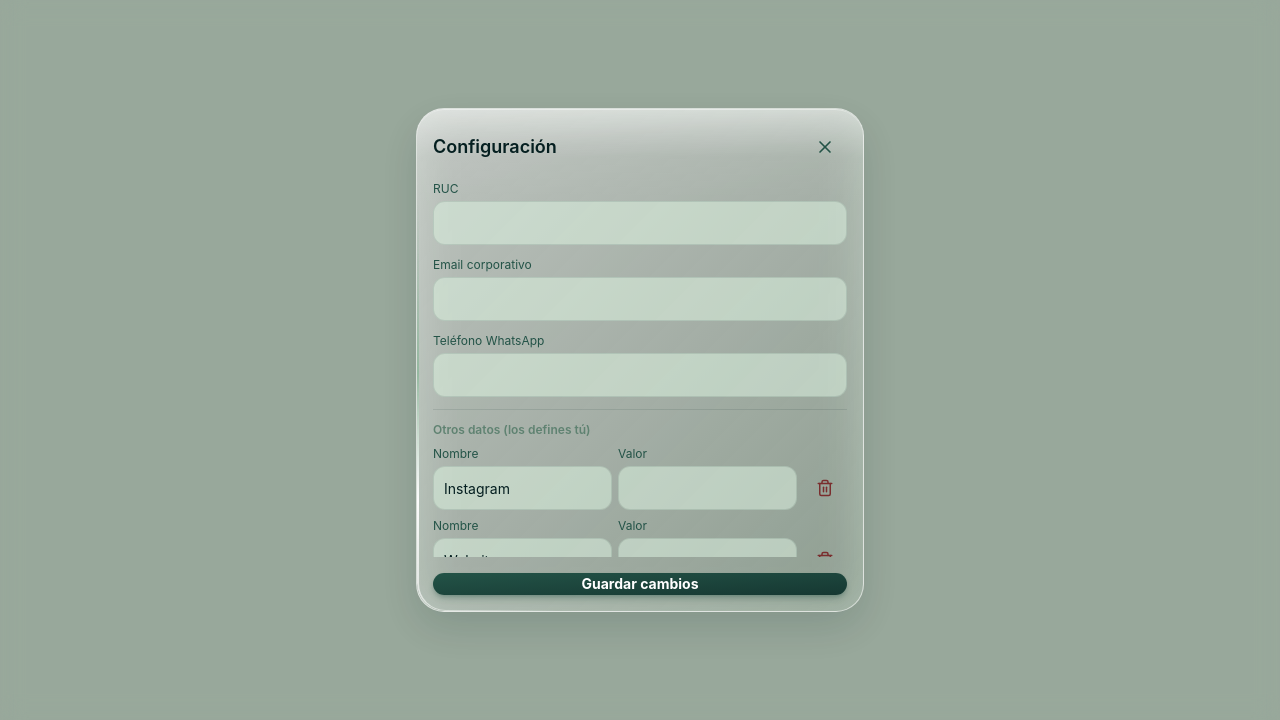
SettingsPanel › blocks saving for an invalid email
In the field labelled "Email corporativo": (640, 299) [433, 277, 847, 321], type "no-es-un-email"
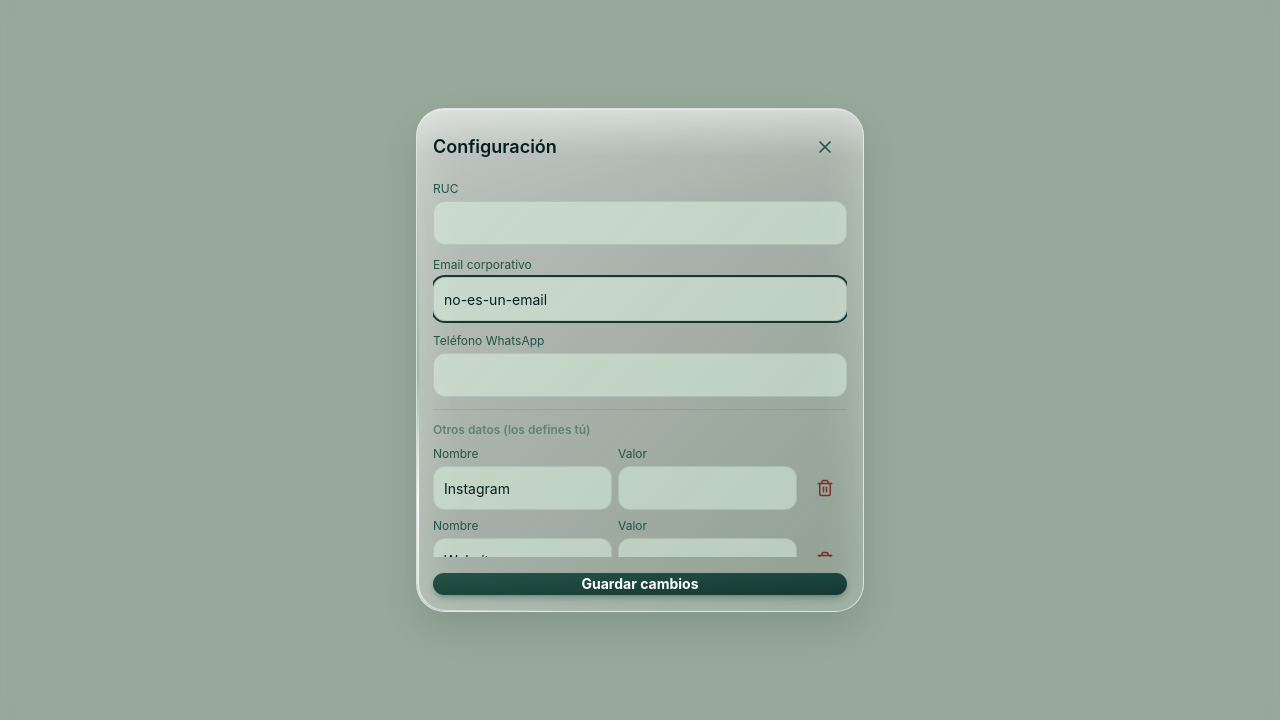
Click the button "Guardar cambios": (640, 584) [433, 573, 847, 595]
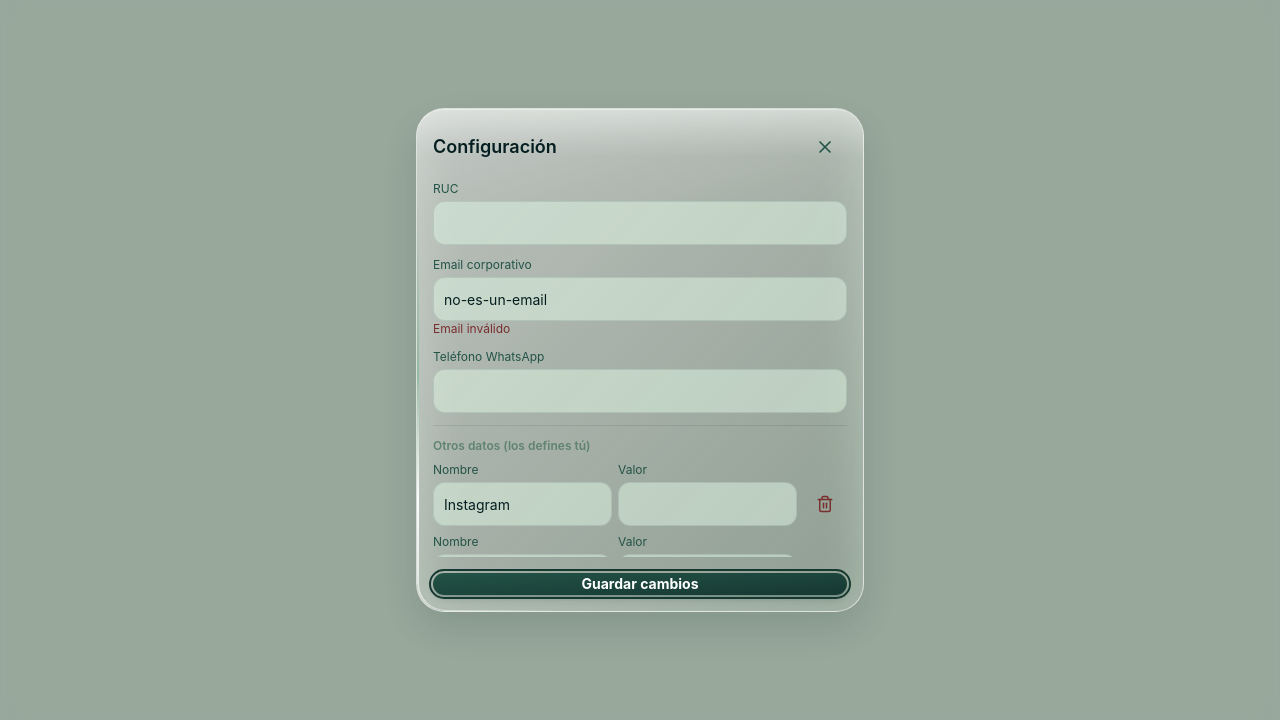
Check: the text "Email inválido" is shown, box [433, 321, 510, 336]
